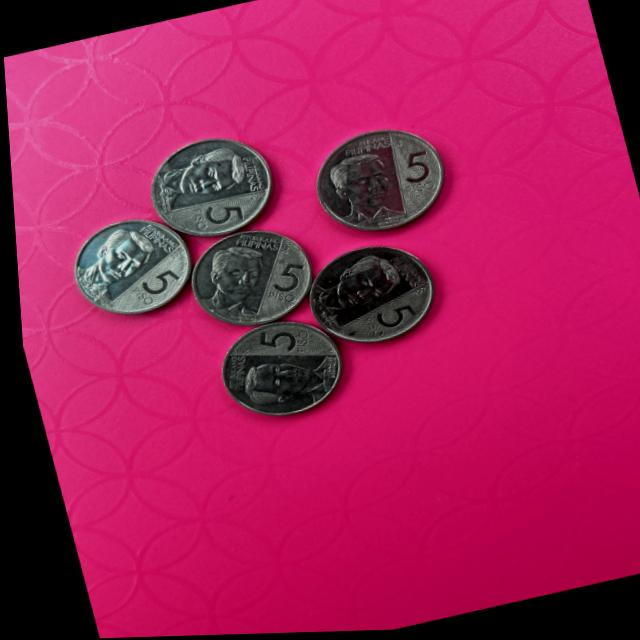5_New_Front: (241, 313, 321, 372), (177, 194, 246, 241), (343, 299, 414, 344), (248, 262, 303, 315), (117, 267, 182, 310), (393, 143, 439, 202)
